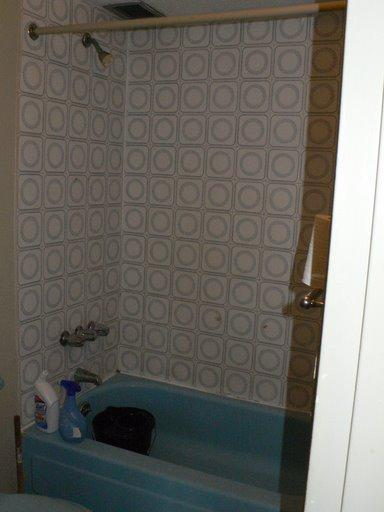Ducha: (30, 20, 147, 413)
